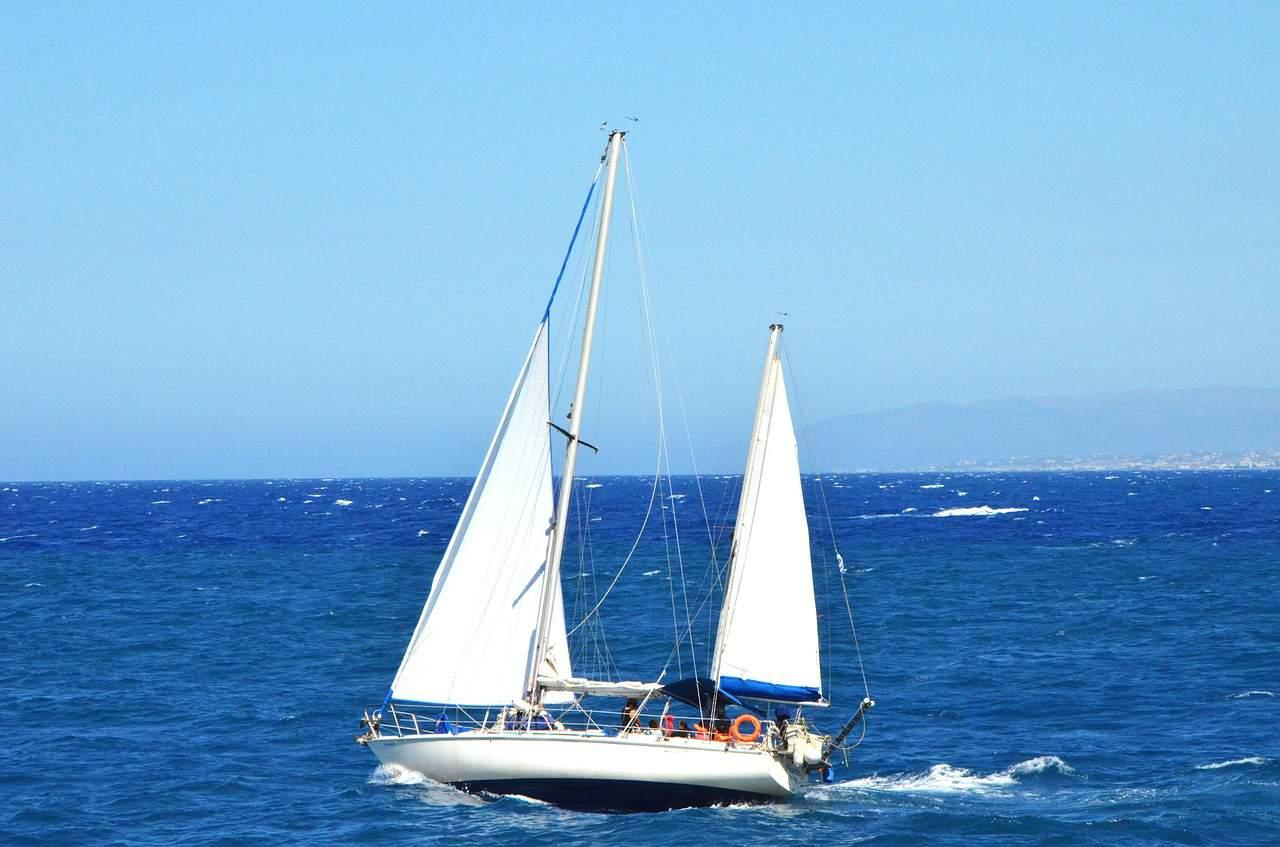Ship: (354, 130, 877, 801)
